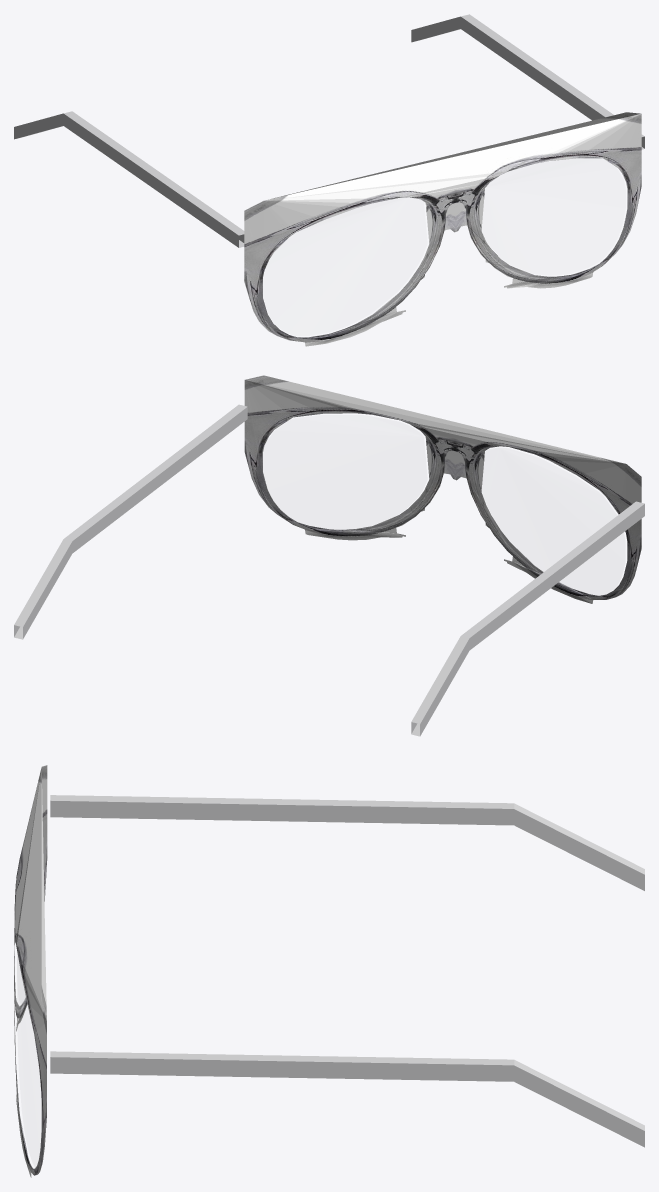
The model's file is times-square-easy-fit-1_grey.glb.
3 views of the same model, one above another, from view 1: azimuth 30°, elevation 25°; view 2: azimuth 150°, elevation 25°; view 3: azimuth 270°, elevation 25° (orthographic). The views are drawn at different scales.
Parts seen in each view (by area): view 1: frame_front, temple_viewer_left, temple_viewer_right; view 2: frame_front, temple_viewer_left, temple_viewer_right; view 3: temple_viewer_left, temple_viewer_right, frame_front.
Boxes of the visible parts, x1,y1,x2,y2 form: frame_front: (244, 112, 641, 346); temple_viewer_left: (14, 111, 244, 247); temple_viewer_right: (411, 14, 644, 149); frame_front: (244, 375, 641, 603); temple_viewer_left: (411, 501, 644, 736); temple_viewer_right: (14, 404, 247, 639); temple_viewer_left: (50, 795, 644, 890); temple_viewer_right: (50, 1051, 644, 1147); frame_front: (14, 765, 47, 1177).
Size of the model in its own units: 0.1366 by 0.0492 by 0.139.
Materials: 3 (2 with a texture image).
